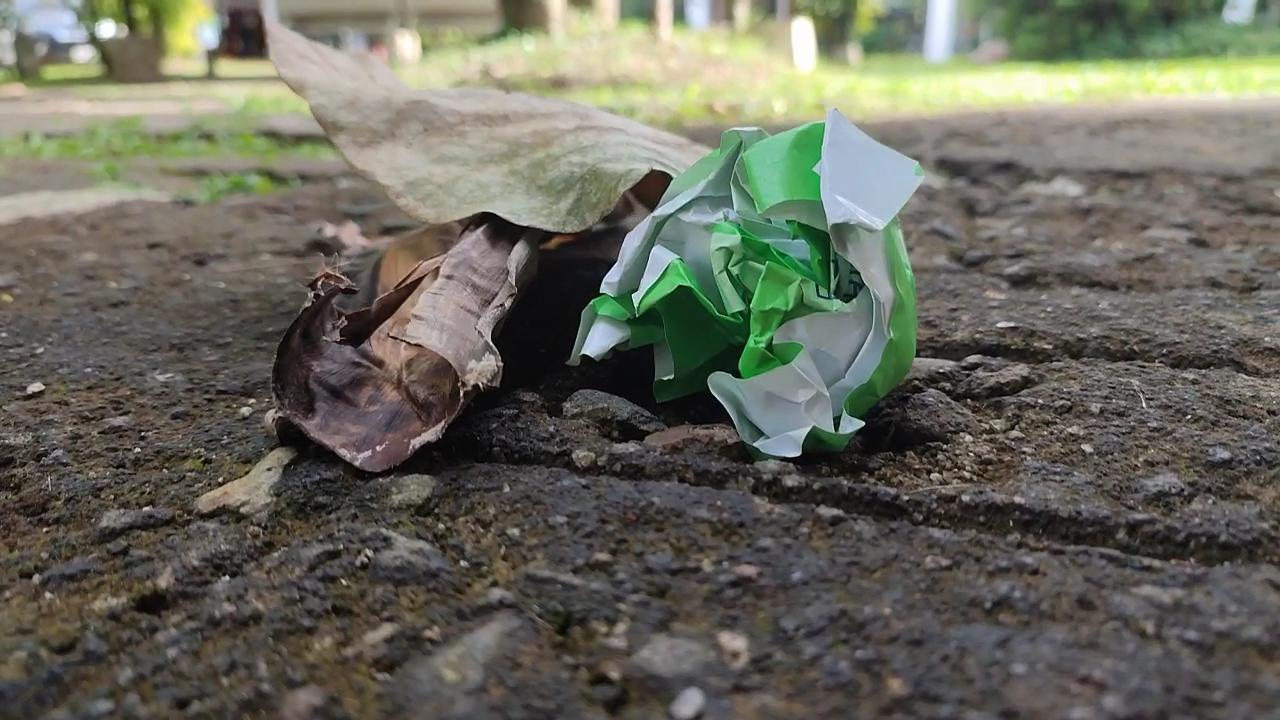Paper: (538, 85, 936, 471)
